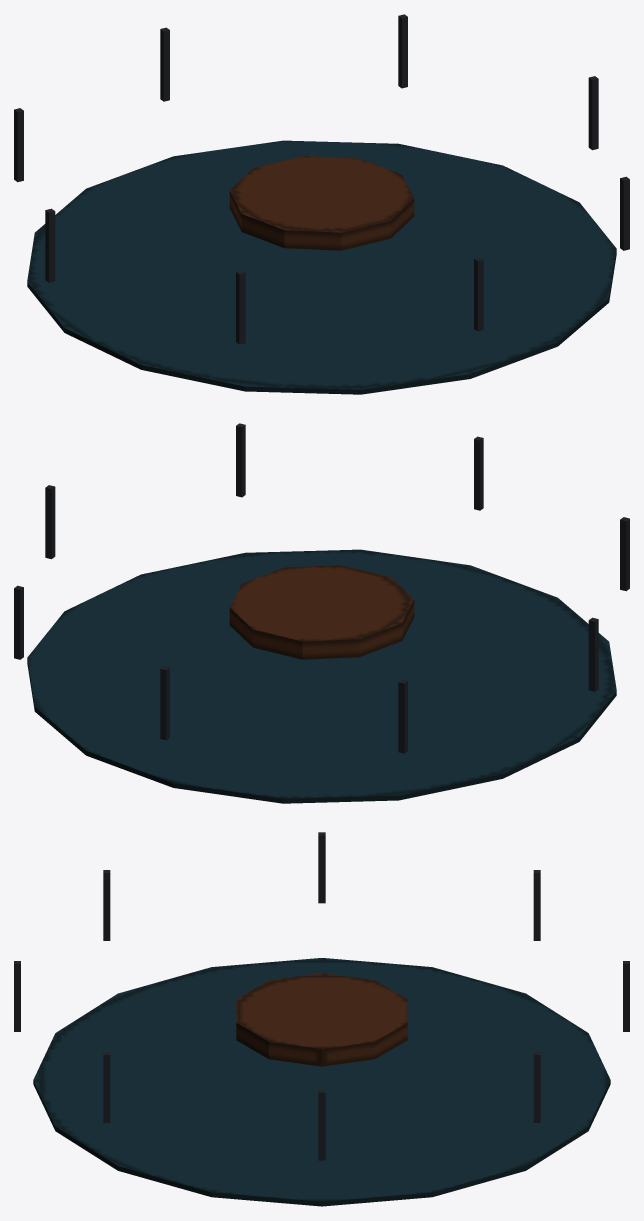
File: WashDrumCrown.obj
3 renders of one model, top to bottom at view 1: azimuth 30°, elevation 25°; view 2: azimuth 150°, elevation 25°; view 3: azimuth 270°, elevation 25°, orthographic. The views are drawn at different scales.
Parts seen in each view (by area): view 1: WashDrumCrown; view 2: WashDrumCrown; view 3: WashDrumCrown.
Part boxes in pixels (x1,y1,x2,y2): WashDrumCrown: [14, 14, 629, 394]; WashDrumCrown: [14, 423, 629, 803]; WashDrumCrown: [14, 832, 629, 1206].
Size of the model in its own units: 6.98 by 1.52 by 6.98.
1 material, 1 textured.
